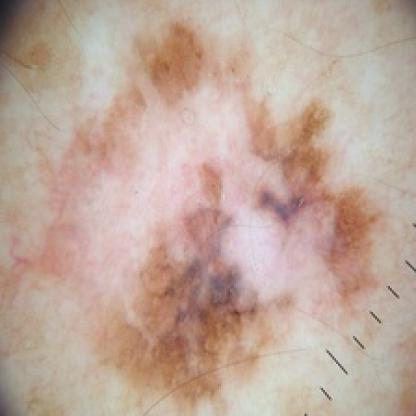malignant: (52, 50, 381, 383)
